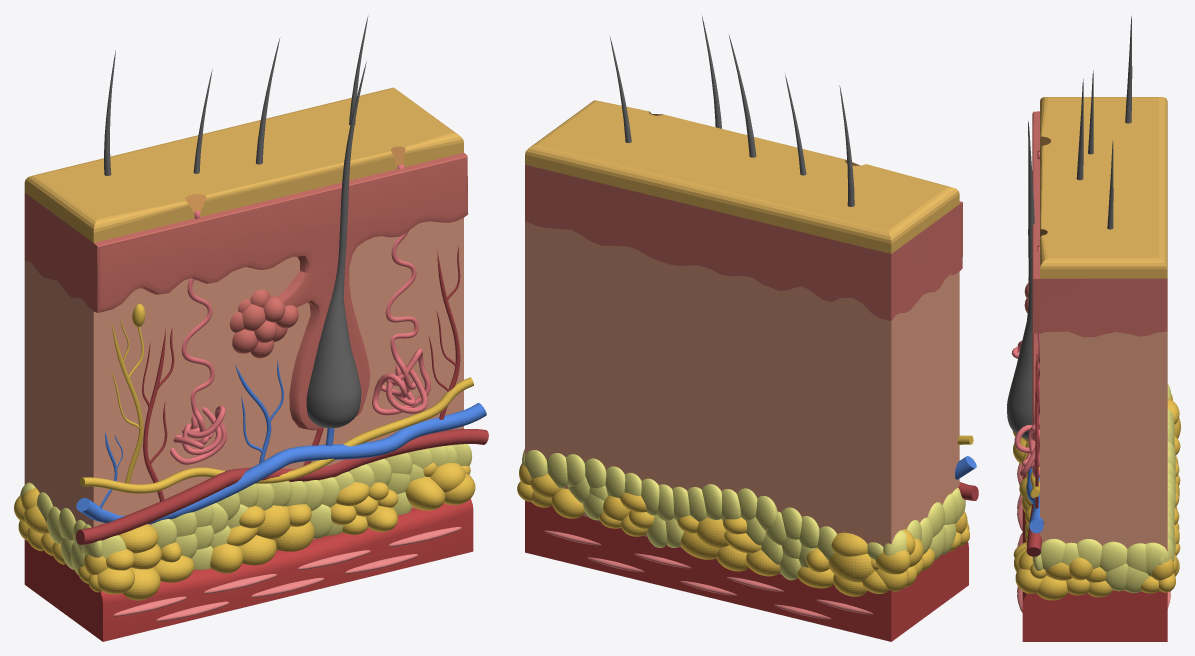
Rendered from anatomi_kulit_skin_anatomy.glb.
3 views of the same model, side by side, from view 1: azimuth 30°, elevation 25°; view 2: azimuth 150°, elevation 25°; view 3: azimuth 270°, elevation 25° (orthographic). The views are drawn at different scales.
Parts seen in each view (by area): view 1: Cube_1, Cube.005_7, Cube.004_6, Cube.002_4, Circle.003_2, BezierCurve.001_8, BezierCurve.002_9, BezierCurve.003_10, Cylinder.006_22, BezierCurve.007_19, Sphere.007_16, BezierCurve.011_20 (+13 smaller); view 2: Cube_1, Cube.004_6, Cube.005_7, Cube.002_4, Circle.003_2, Cylinder.001_23, Sphere.097_118, Sphere.105_126, Sphere.100_121, Sphere.148_169, Sphere.104_125, Sphere.091_112; view 3: Cube_1, Cube.004_6, Cube.005_7, Cube.002_4, Circle.003_2, BezierCurve.001_8, Sphere.071_92, Sphere.069_90, Sphere.060_81, BezierCurve.013_15, Sphere.059_80, Sphere.075_96 (+13 smaller).
Part boxes in pixels (<box>): Cube_1: <box>24,217,463,539</box>; Cube.005_7: <box>24,152,468,430</box>; Cube.004_6: <box>24,87,463,242</box>; Cube.002_4: <box>24,498,473,641</box>; Circle.003_2: <box>104,16,368,428</box>; BezierCurve.001_8: <box>170,164,430,464</box>; BezierCurve.002_9: <box>76,403,486,524</box>; BezierCurve.003_10: <box>76,429,488,544</box>; Cylinder.006_22: <box>113,527,461,621</box>; BezierCurve.007_19: <box>79,377,473,493</box>; Sphere.007_16: <box>229,289,298,358</box>; BezierCurve.011_20: <box>142,327,174,501</box>; Cube_1: <box>525,221,959,590</box>; Cube.004_6: <box>525,100,959,253</box>; Cube.005_7: <box>525,164,962,321</box>; Cube.002_4: <box>525,500,968,641</box>; Circle.003_2: <box>610,16,854,206</box>; Cylinder.001_23: <box>544,530,873,619</box>; Sphere.097_118: <box>828,553,875,582</box>; Sphere.105_126: <box>696,517,728,548</box>; Sphere.100_121: <box>831,532,867,556</box>; Sphere.148_169: <box>551,488,584,518</box>; Sphere.104_125: <box>680,531,719,559</box>; Sphere.091_112: <box>875,550,910,574</box>; Cube_1: <box>1040,331,1167,575</box>; Cube.004_6: <box>1040,97,1167,278</box>; Cube.005_7: <box>1032,111,1167,429</box>; Cube.002_4: <box>1022,475,1167,641</box>; Circle.003_2: <box>1007,16,1132,439</box>; BezierCurve.001_8: <box>1011,150,1039,477</box>; Sphere.071_92: <box>1100,541,1127,571</box>; Sphere.069_90: <box>1040,539,1065,570</box>; Sphere.060_81: <box>1037,576,1068,600</box>; BezierCurve.013_15: <box>1035,349,1038,508</box>; Sphere.059_80: <box>1076,539,1102,569</box>; Sphere.075_96: <box>1145,542,1169,576</box>.
Bounding box in the file's own units: 3.02 × 3.78 × 1.21.
